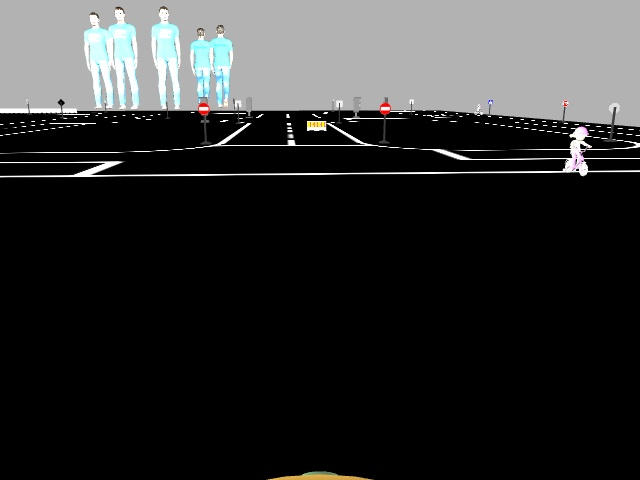ClosedRoadStand: (305, 120, 326, 132)
NoEntry: (195, 104, 210, 116), (379, 104, 391, 113)
Pedestrian: (564, 128, 588, 173)
